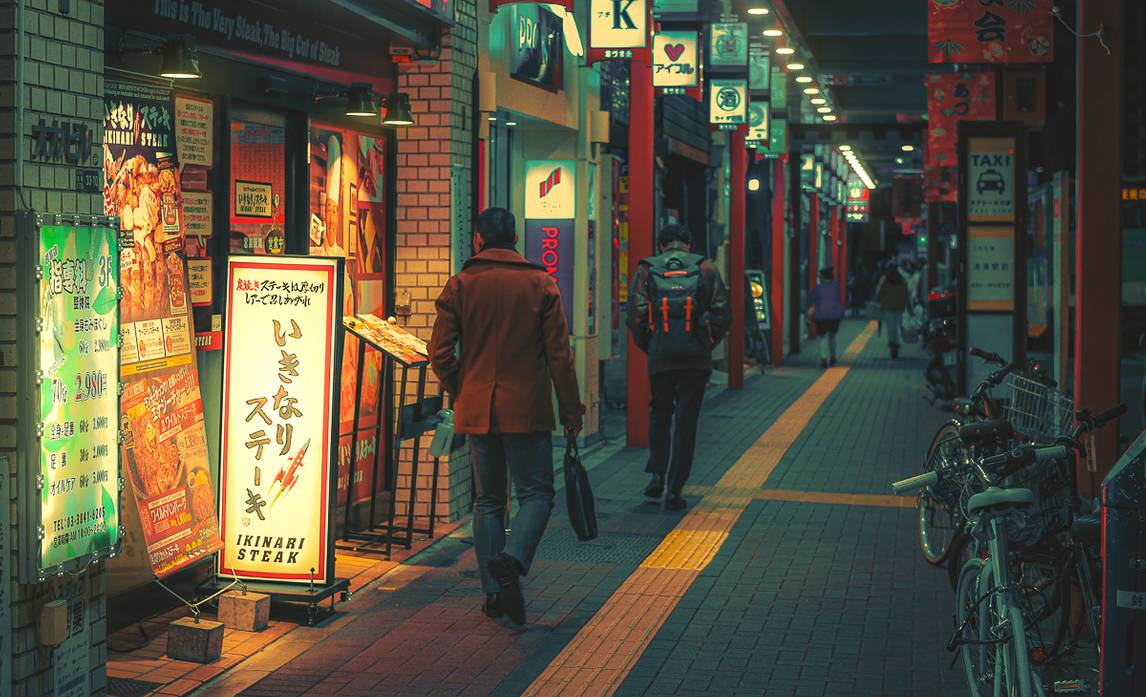person: (418, 201, 602, 633), (615, 217, 740, 514), (804, 267, 848, 374), (874, 258, 916, 364)
